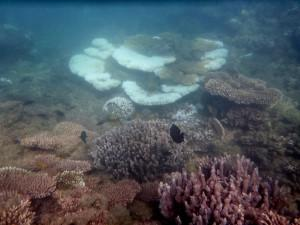bleached_corals: (67, 27, 229, 111), (86, 107, 196, 194), (91, 121, 192, 184), (20, 117, 84, 158), (176, 110, 217, 153), (103, 95, 136, 120), (170, 100, 200, 126)
